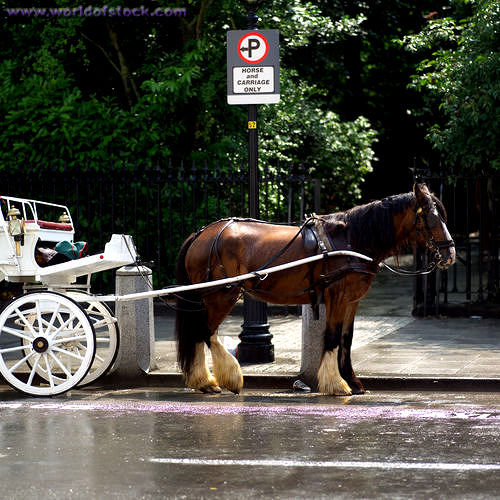horse: (172, 181, 457, 397)
